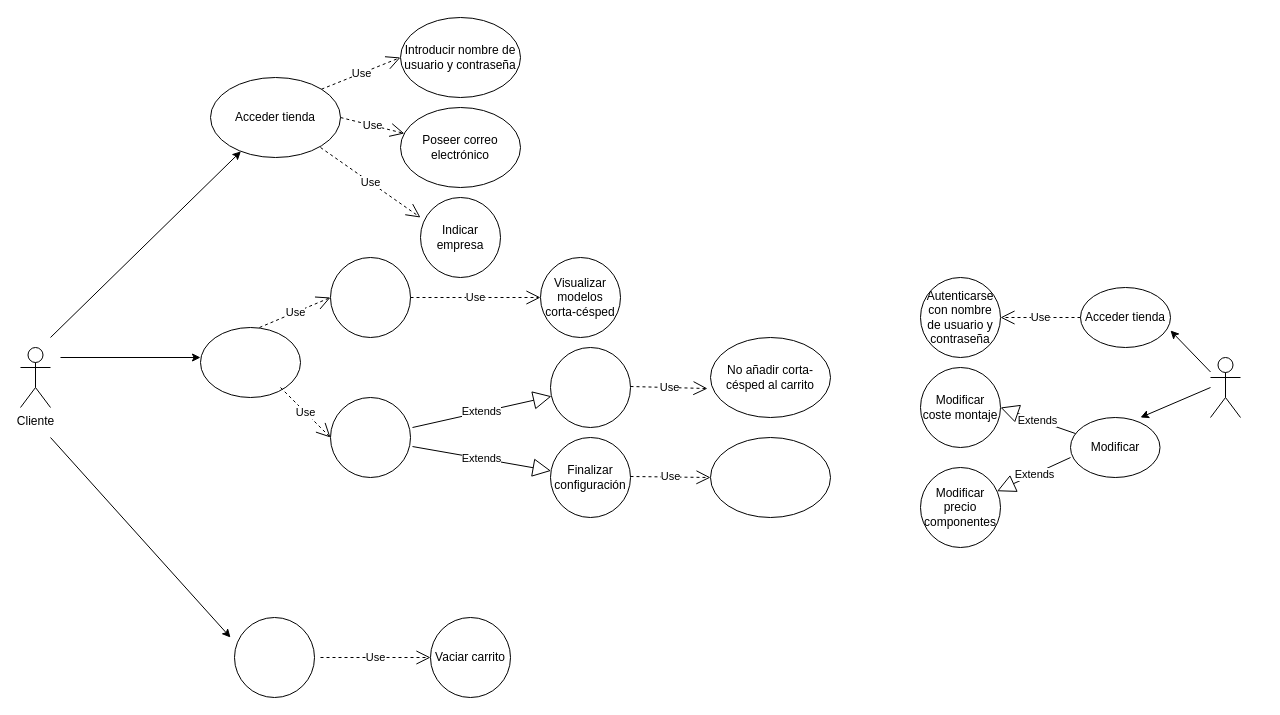
This 1280x715 diagram has some shape labels left out. Here are the shapes that lost their labels. From the top down, the centre of each, then its label:
At point (370, 297): "Elegir modelo corta-césped".
At point (250, 362): "Realizar pedido".
At point (590, 387): "Cancelar configuración".
At point (1225, 387): "Administrador".
At point (370, 437): "Configurar corta-césped".
At point (770, 477): "Añadir corta-césped al carrito".
At point (274, 657): "Abandonar tienda".
